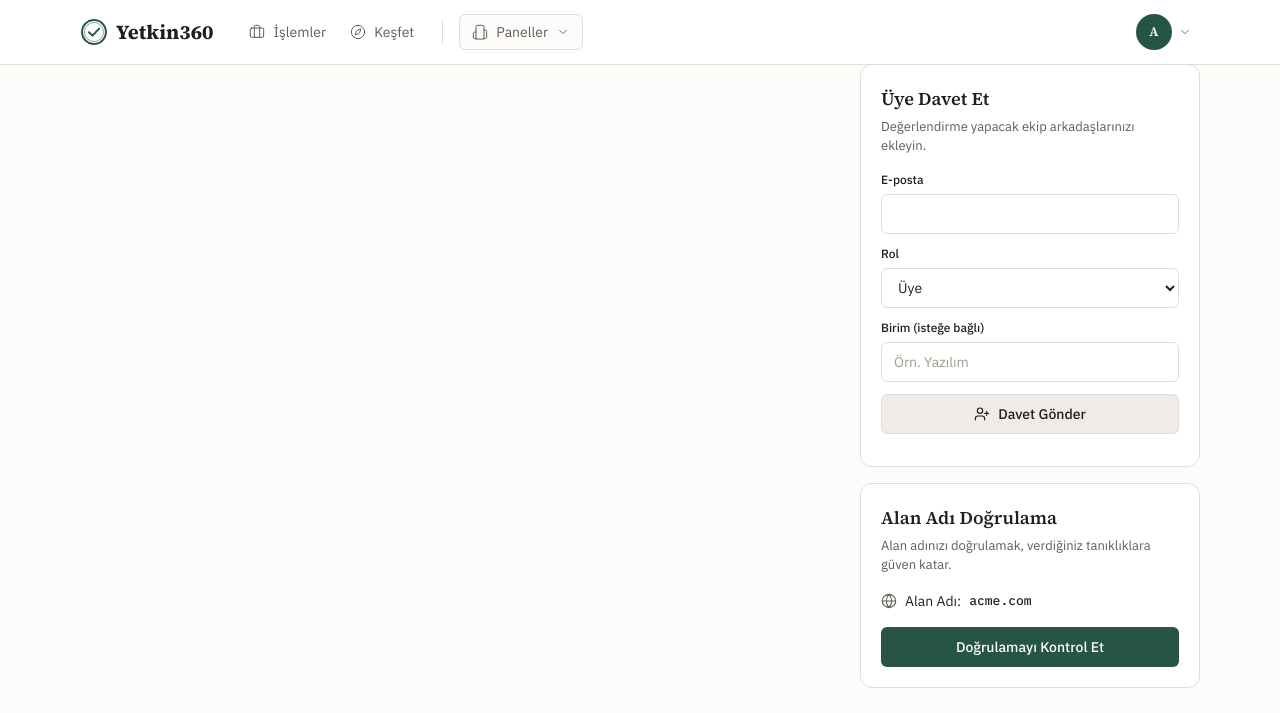
Scenario: KurulusPanelPage (/kurulus/[id]/panel) › Alan adı doğrulama bölümü › DOMAIN_ALREADY_VERIFIED → ilgili hata mesajı gösterilir
The width and height of the screenshot is (1280, 713).
(page scrolled)
Click the button "Doğrulamayı Kontrol Et" at (1030, 646), box [881,626,1179,666]
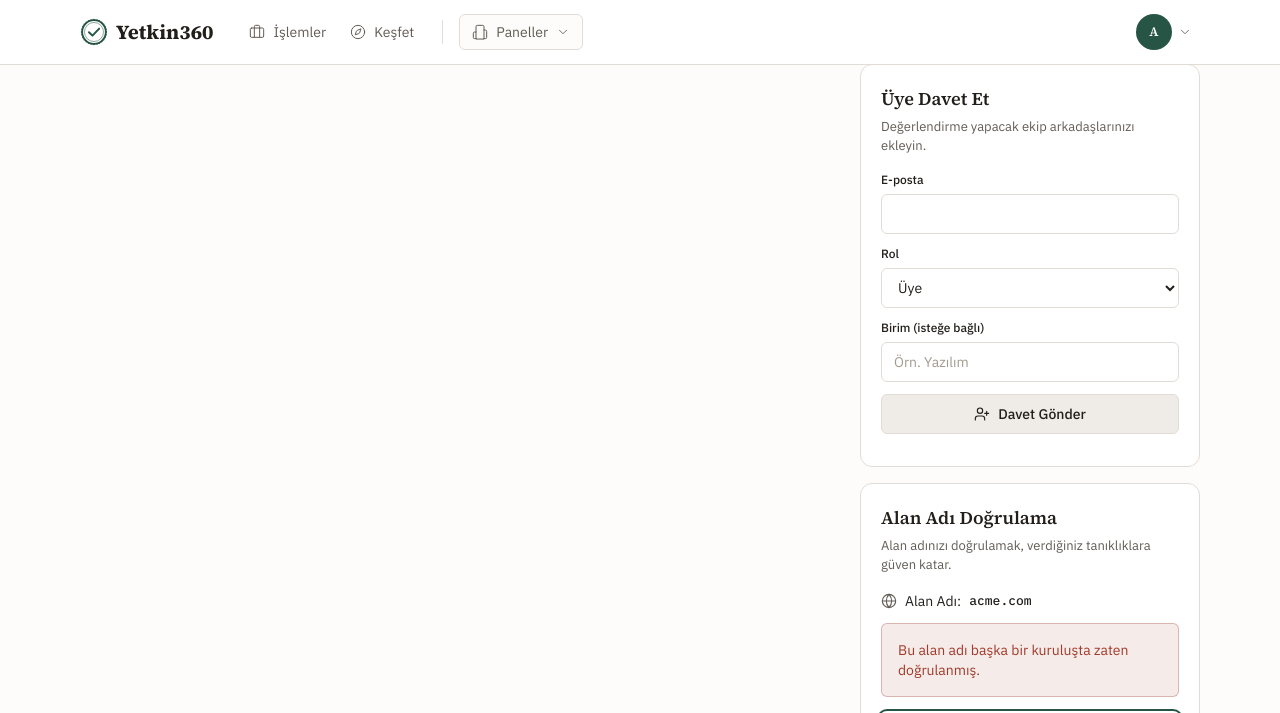
Expected: the text "Bu alan adı başka bir kuruluşta zaten doğrulanmış." is shown, [881,622,1179,696]
